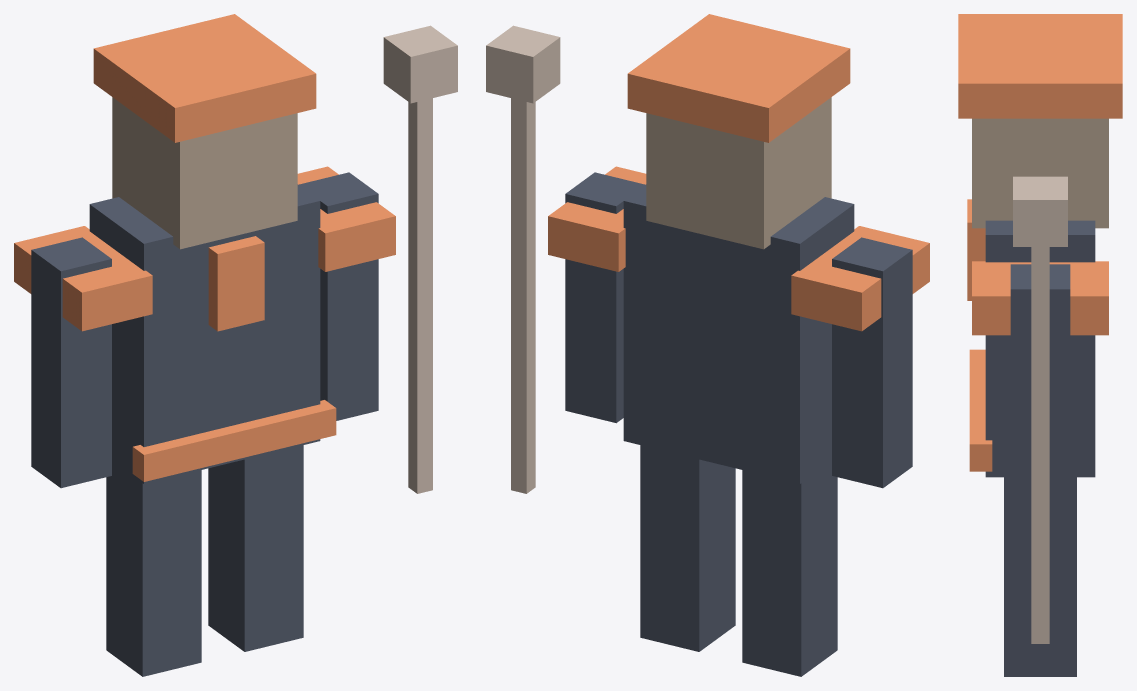
File: 04_auren_voxmere_specialist_of_missile.glb
3 renders of one model, left to right at view 1: azimuth 30°, elevation 25°; view 2: azimuth 150°, elevation 25°; view 3: azimuth 270°, elevation 25°, orthographic.
Visible parts, largest first — view 1: Auren Voxmere, Specialist of Missile; view 2: Auren Voxmere, Specialist of Missile; view 3: Auren Voxmere, Specialist of Missile.
Part boxes in pixels (x1,y1,x2,y2): Auren Voxmere, Specialist of Missile: (14, 14, 457, 676); Auren Voxmere, Specialist of Missile: (486, 14, 929, 676); Auren Voxmere, Specialist of Missile: (958, 14, 1122, 676).
Bounding box in the file's own units: 1.04 × 1.45 × 0.3673.
